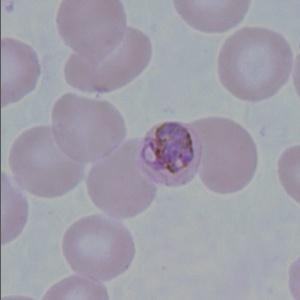Infected: (138, 121, 203, 187)
Uninfected: (59, 26, 152, 92), (10, 123, 85, 196), (218, 29, 293, 101), (51, 90, 126, 161), (88, 139, 155, 218), (191, 116, 258, 193), (55, 0, 129, 66), (64, 217, 134, 282), (172, 0, 250, 36)
